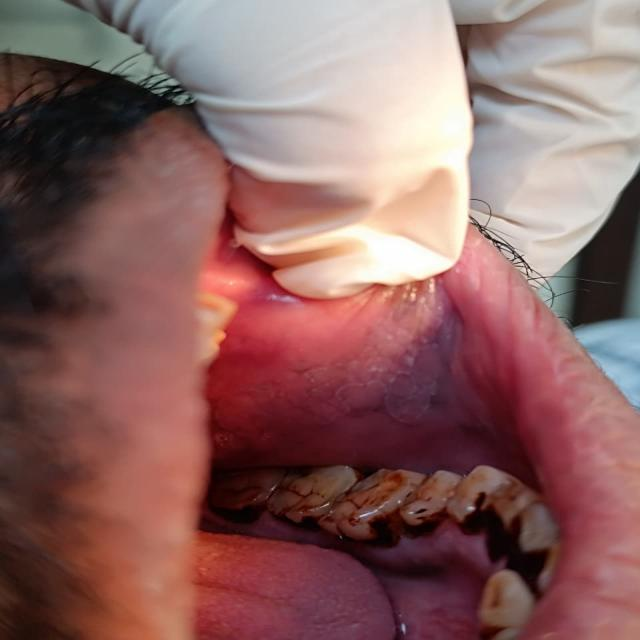leukoplakia-like-detection: (211, 277, 475, 454)
processing_area: (213, 251, 492, 459)
